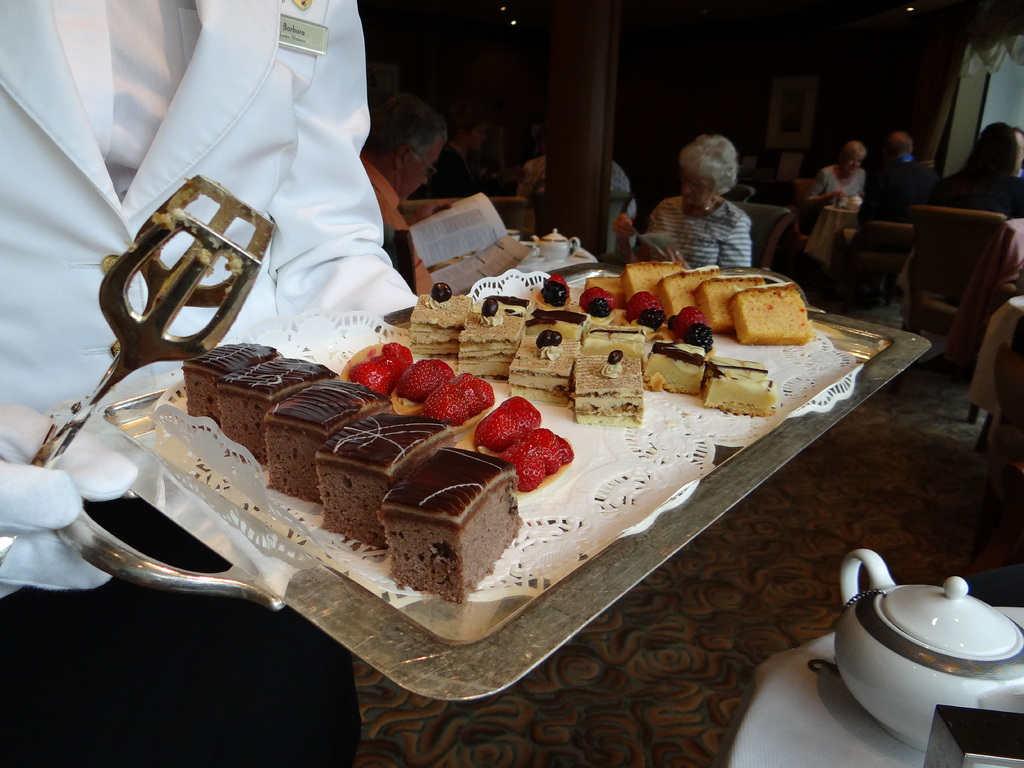cake: (403, 294, 772, 415), (365, 439, 538, 608), (318, 413, 456, 547), (262, 373, 384, 502), (209, 344, 333, 450), (182, 339, 280, 413)
